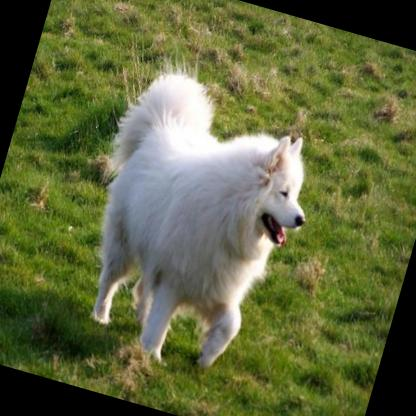Samoyed: (56, 56, 334, 389)
